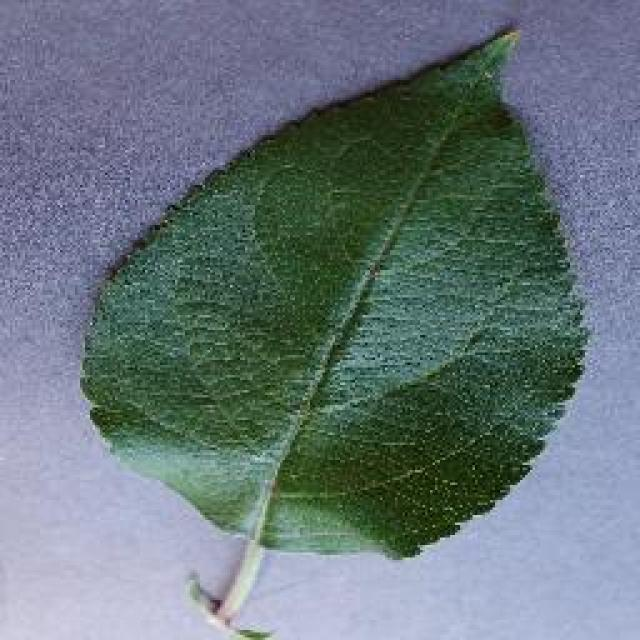apple healthy: (75, 23, 590, 635)
